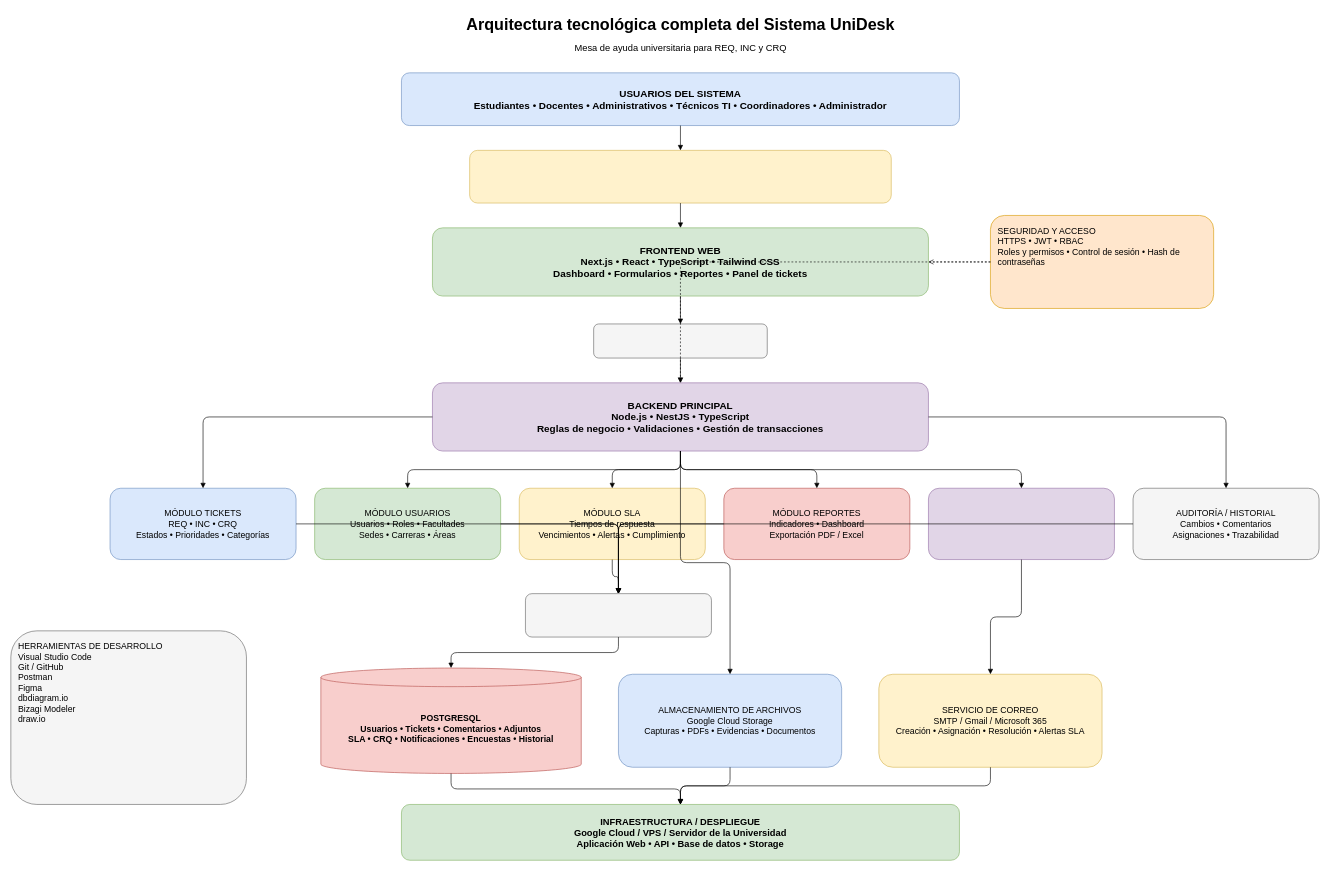
Some shapes in this 1330 by 871 pixel diagram are drawn without their labels. Each missing label, with the box of its shape:
ACCESO A DATOS Prisma ORM: (525, 593, 711, 637)
API REST / HTTPS: (593, 323, 767, 358)
CAPA DE ACCESO Navegador Web / Móvil Chrome • Edge • Firefox • Safari: (469, 150, 891, 203)
MÓDULO NOTIFICACIONES Correo • Alertas internas Cambios de estado • SLA: (928, 488, 1114, 560)
